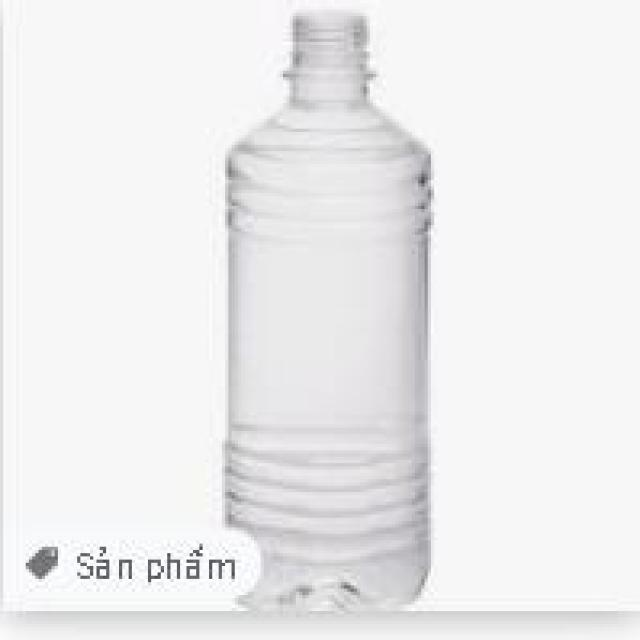bottle: (222, 10, 431, 608)
